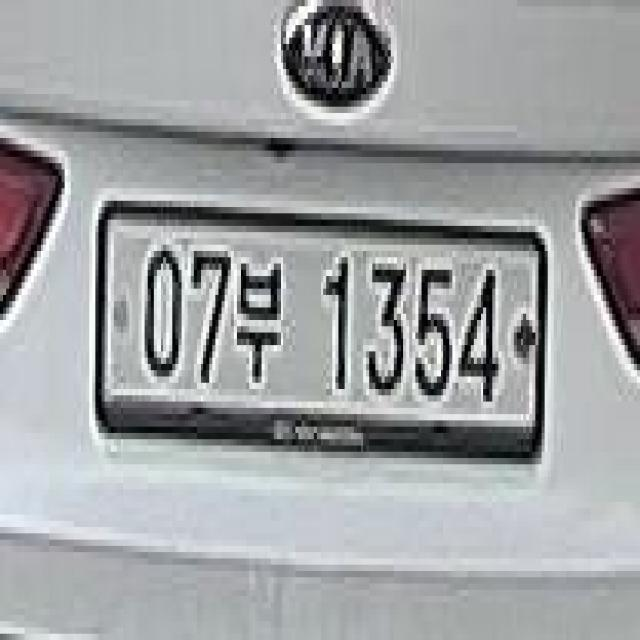illegal_plate: (94, 186, 548, 484)
